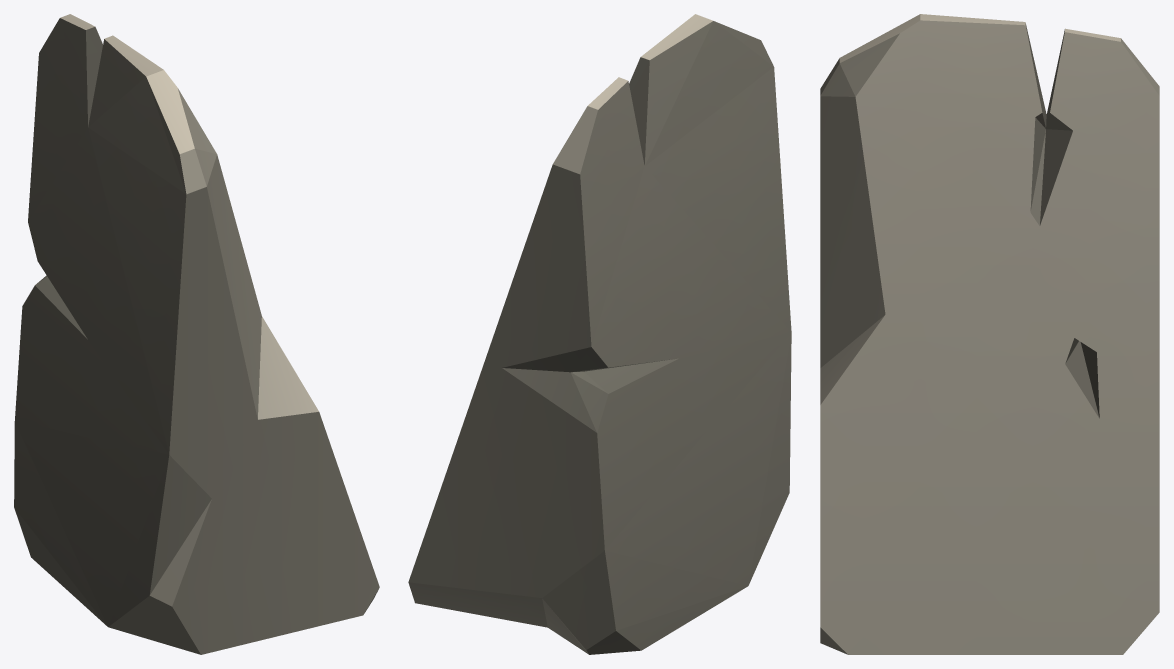
Rendered from Rock_Medium_3E.fbx.
3 renders of one model, left to right at view 1: azimuth 30°, elevation 25°; view 2: azimuth 150°, elevation 25°; view 3: azimuth 270°, elevation 25°, orthographic. The views are drawn at different scales.
Parts seen in each view (by area): view 1: Rock_Medium_3E; view 2: Rock_Medium_3E; view 3: Rock_Medium_3E.
Boxes of the visible parts, x1,y1,x2,y2 form: Rock_Medium_3E: (14, 14, 379, 654); Rock_Medium_3E: (408, 14, 791, 654); Rock_Medium_3E: (820, 14, 1159, 654).
Bounding box in the file's own units: 1.1 × 2.53 × 1.42.
